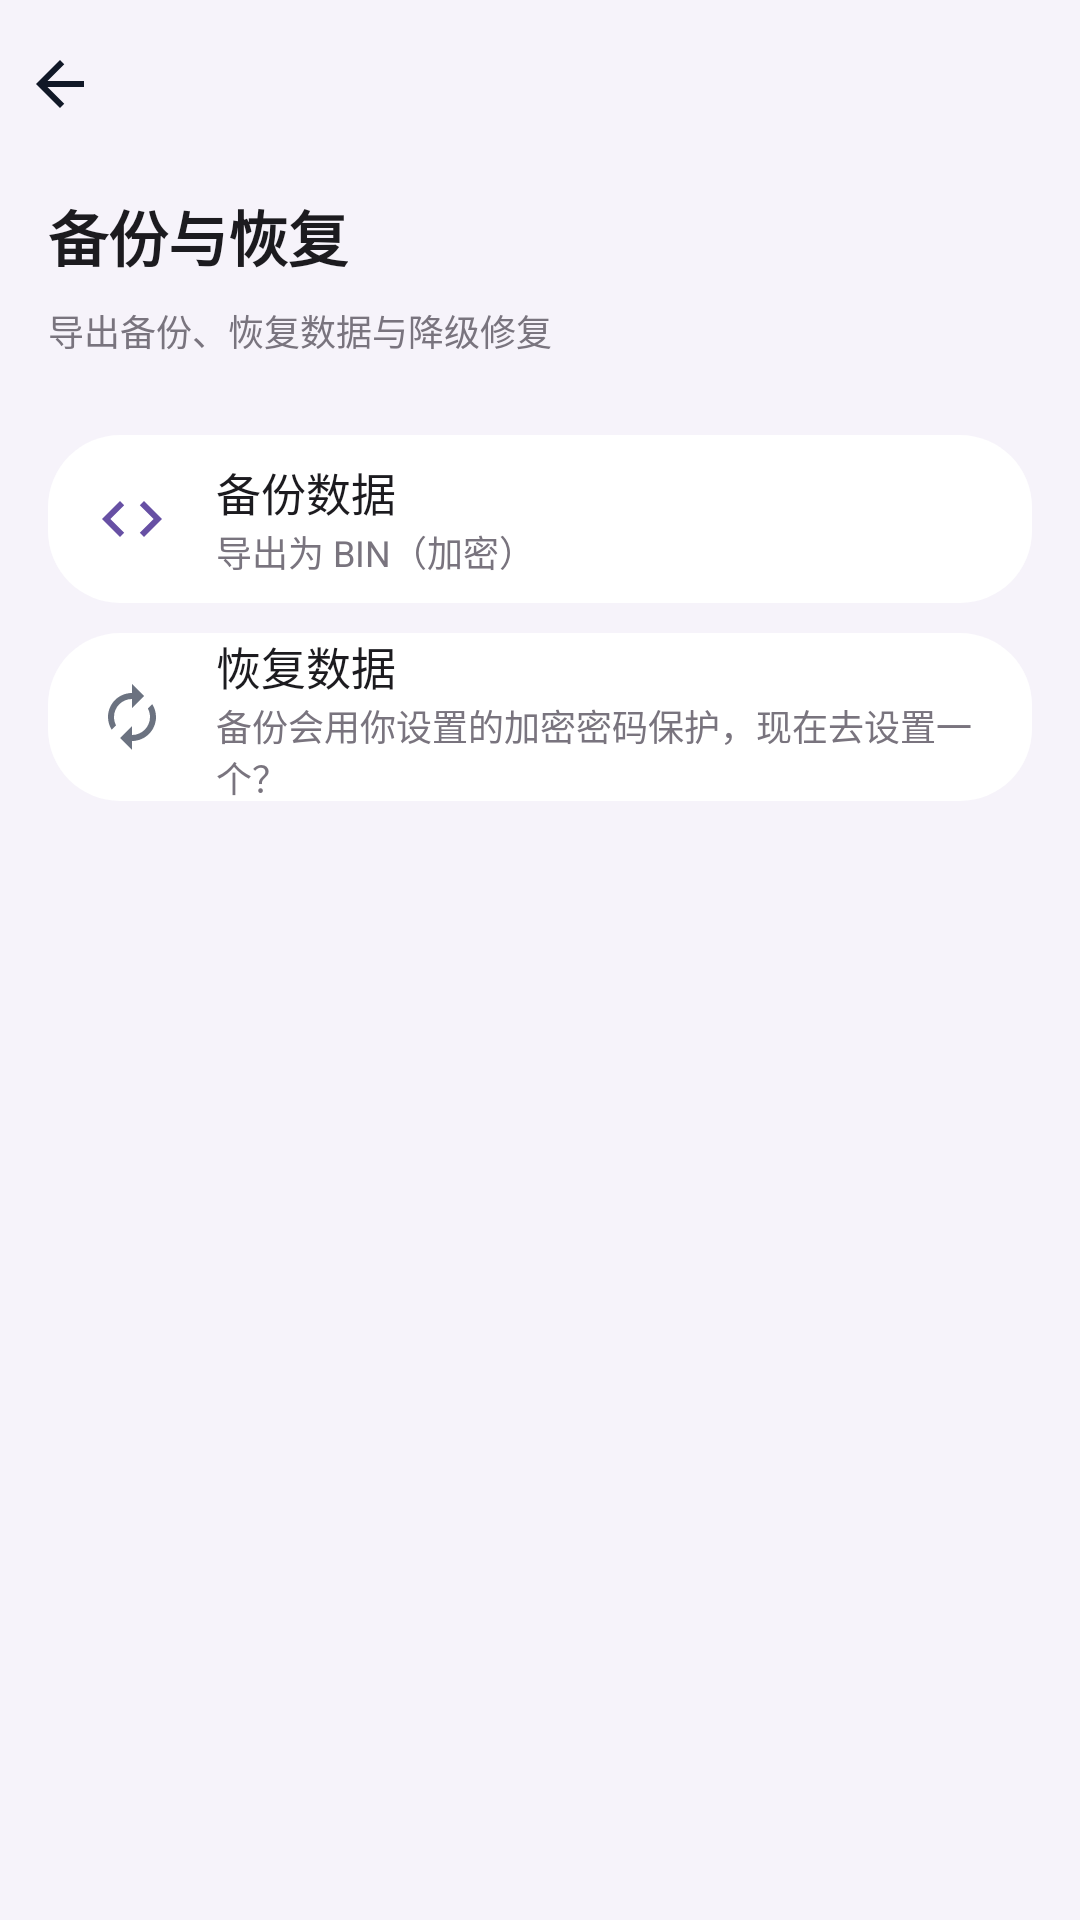

Icon bounding boxes for this 1080 x 1920 phone screenshot, format (x1, y1, x2, y2):
autorenew: (108, 684, 156, 750)
返回: (36, 60, 84, 108)
